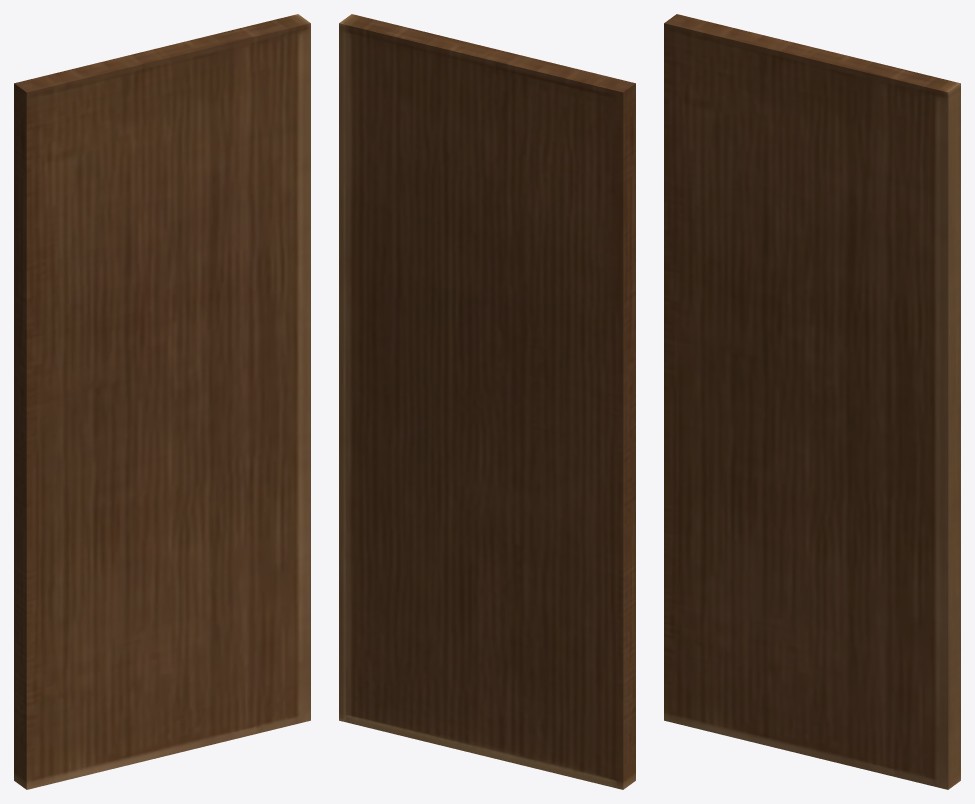
Rendered from link_8__back_panel-96.glb.
The picture shows the model from 3 angles, left to right: view 1: azimuth 30°, elevation 25°; view 2: azimuth 150°, elevation 25°; view 3: azimuth 330°, elevation 25°; orthographic projection.
Parts seen in each view (by area): view 1: geometry_0; view 2: geometry_0; view 3: geometry_0.
Part boxes in pixels (<box>): geometry_0: <box>14,14,310,789</box>; geometry_0: <box>339,14,635,789</box>; geometry_0: <box>664,14,960,789</box>.
Size of the model in its own units: 0.2731 by 0.6406 by 0.021.
1 material, 1 textured.
